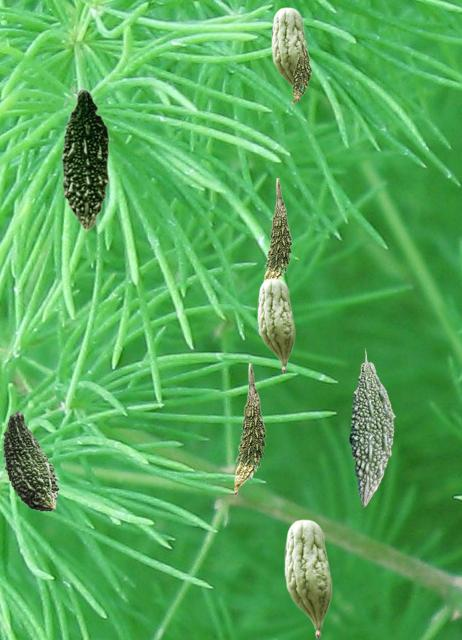ampalaya: (61, 86, 112, 231), (349, 348, 394, 506), (284, 519, 331, 638), (3, 410, 58, 510), (234, 363, 265, 495), (271, 7, 308, 101), (257, 278, 294, 372), (263, 178, 291, 280), (289, 35, 311, 103)
